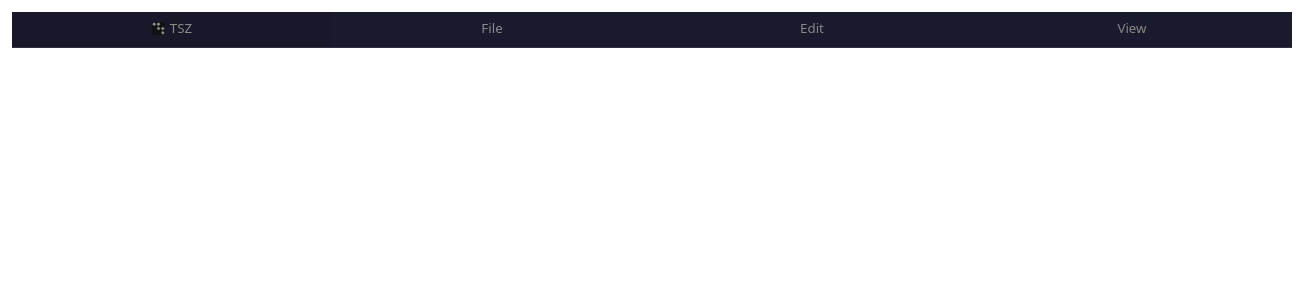
Test case: clicking the open tab again closes the dropdown
Click the button "File" at (492, 30), box [332,12,652,47]
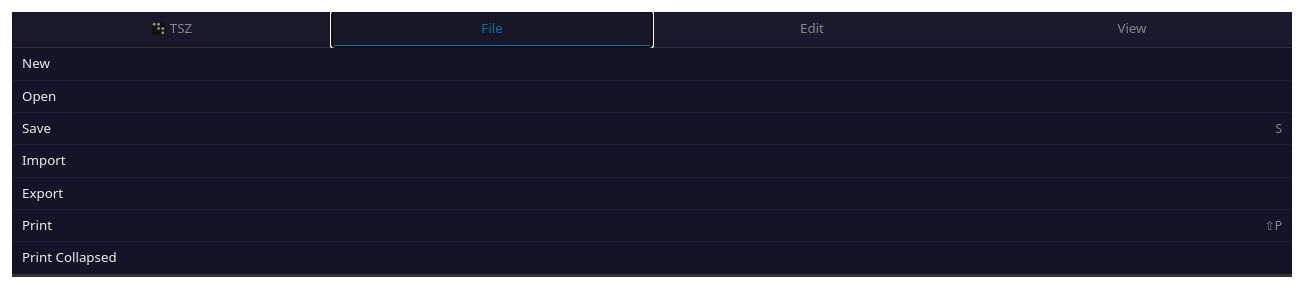
Result: the text "New" is shown at [22,54,50,72]
Click the button "File" at (492, 30), box [332,12,652,47]
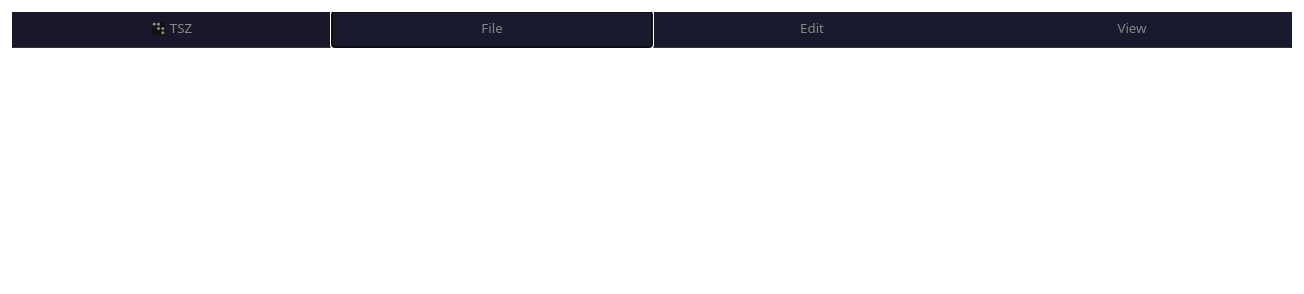
Result: the text "New" is gone
